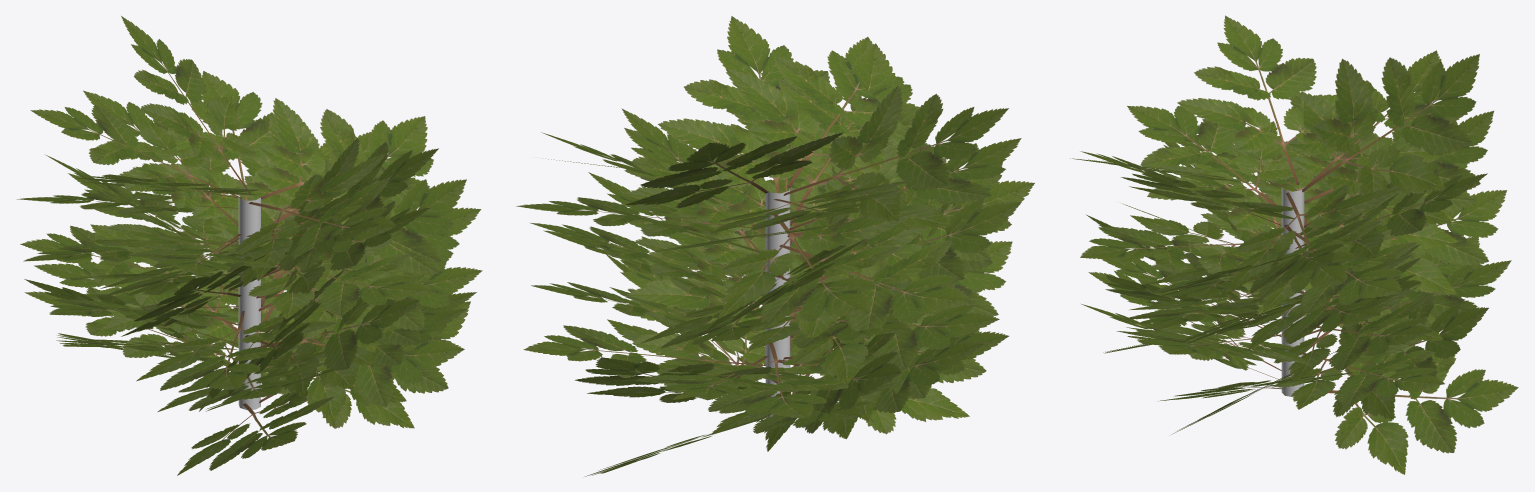
The model's file is Leaves-Mid.glb.
3 views of the same model, side by side, from view 1: azimuth 30°, elevation 25°; view 2: azimuth 150°, elevation 25°; view 3: azimuth 270°, elevation 25° (orthographic). The views are drawn at different scales.
Parts seen in each view (by area): view 1: Cylinder.001; view 2: Cylinder.001; view 3: Cylinder.001.
Boxes of the visible parts, x1,y1,x2,y2 form: Cylinder.001: [17, 16, 482, 475]; Cylinder.001: [516, 16, 1034, 476]; Cylinder.001: [1070, 15, 1518, 474].
Size of the model in its own units: 4.05 by 3.46 by 4.01.
Materials: 1 (1 with a texture image).
